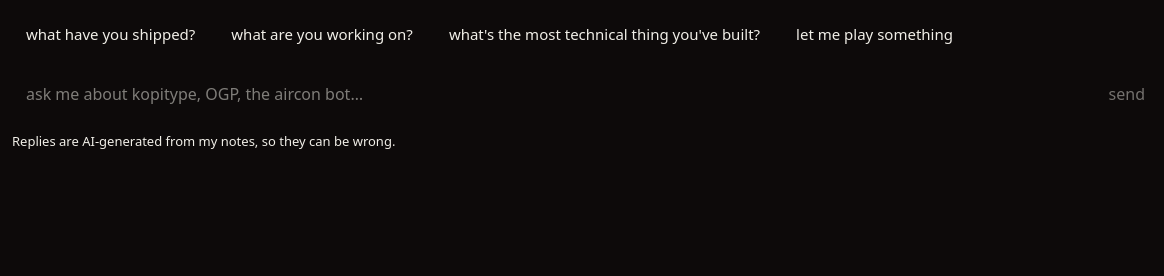
Test: homepage chat › lets Jev pick a trusted card for free text, and never takes text from it
This screenshot has width=1164, height=276.
In the field named "Ask Anselm": {"x": 557, "y": 94} [26,74,1088,114], type "hardest thing you've built?"
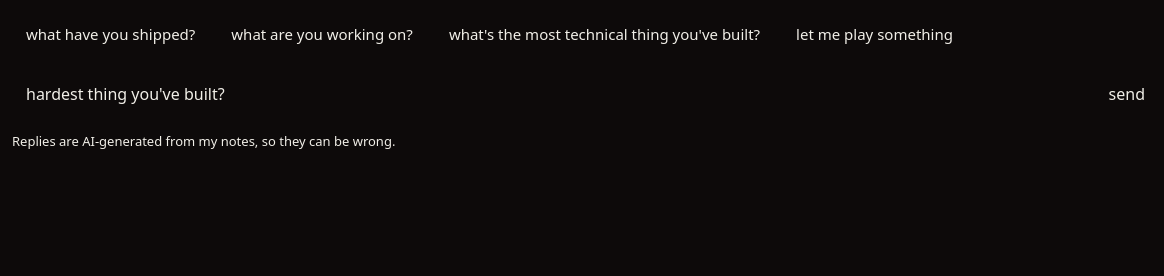
Click the button "send": {"x": 1127, "y": 94} [1096,74,1158,114]
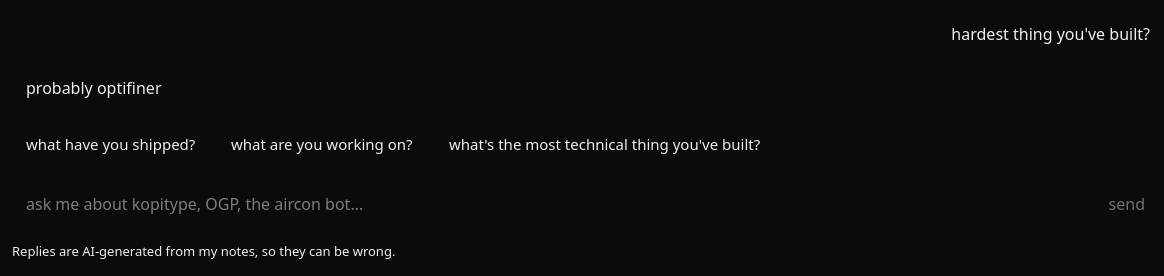
Now the text "probably optifiner" is shown, box [26,77,162,99]
